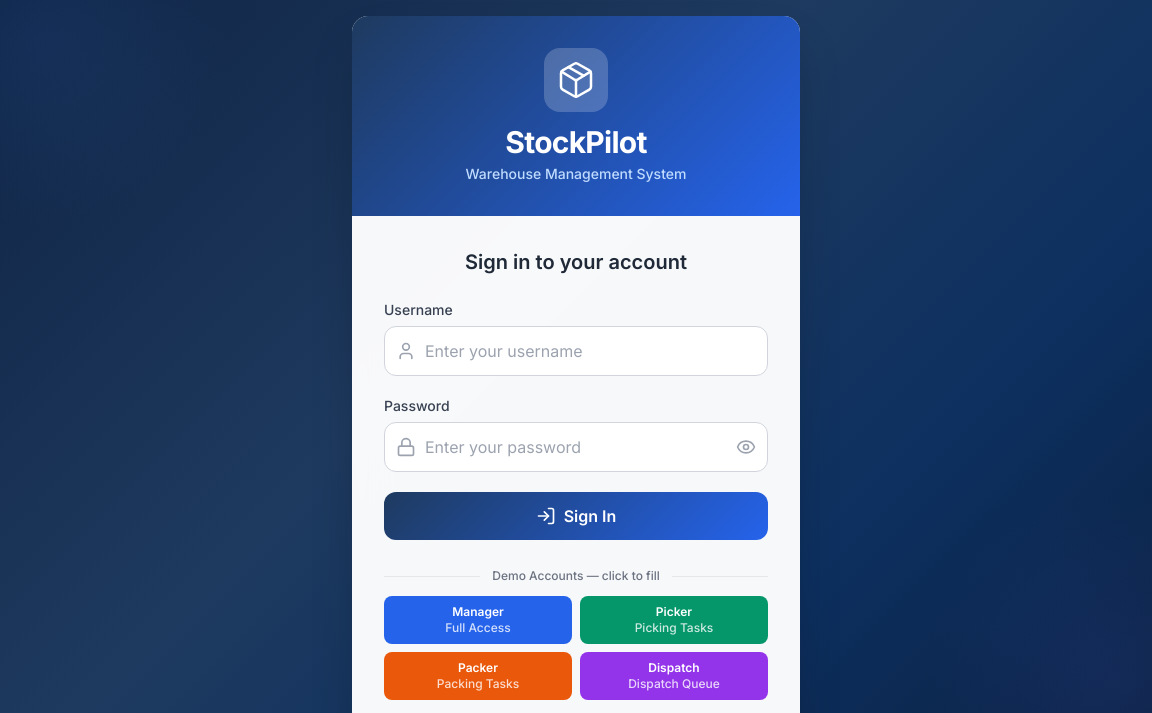
LoginPage › fills username and password when a demo button is clicked
What coordinates should you click on to do the following:
click the button "Manager Full Access"
I would click on:
 (478, 620)
Its box is [384,596,572,644].
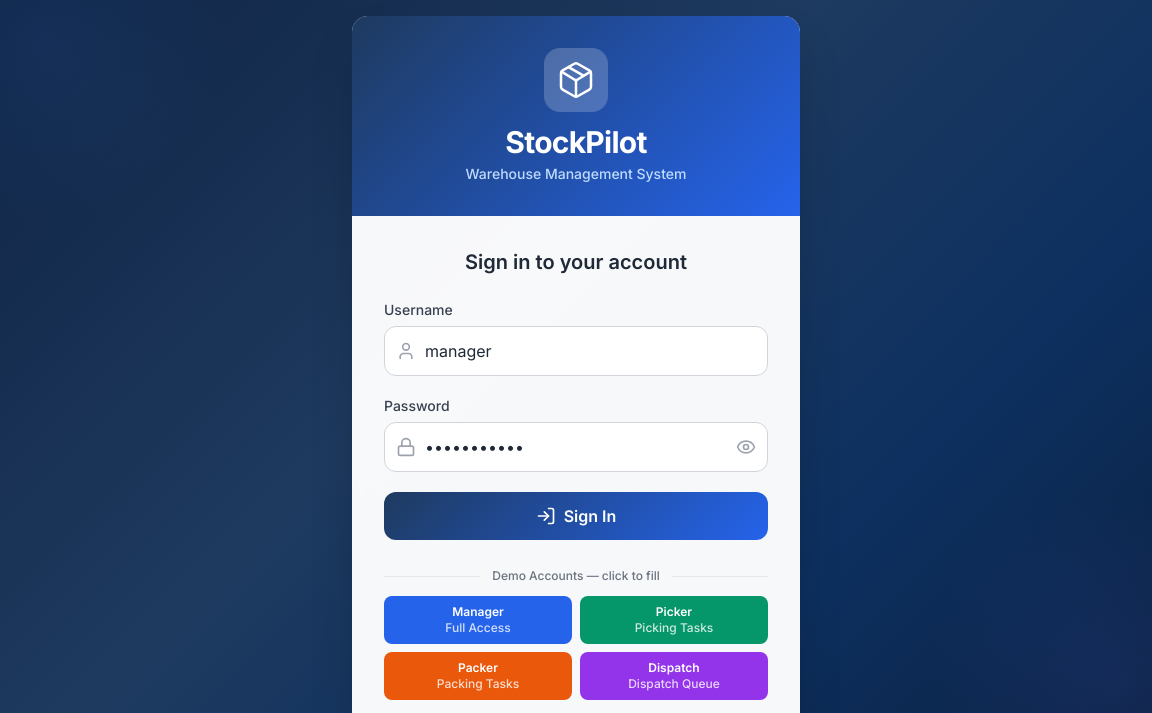
Expected: the field labelled "Username" holds "manager", [384,326,768,376]
